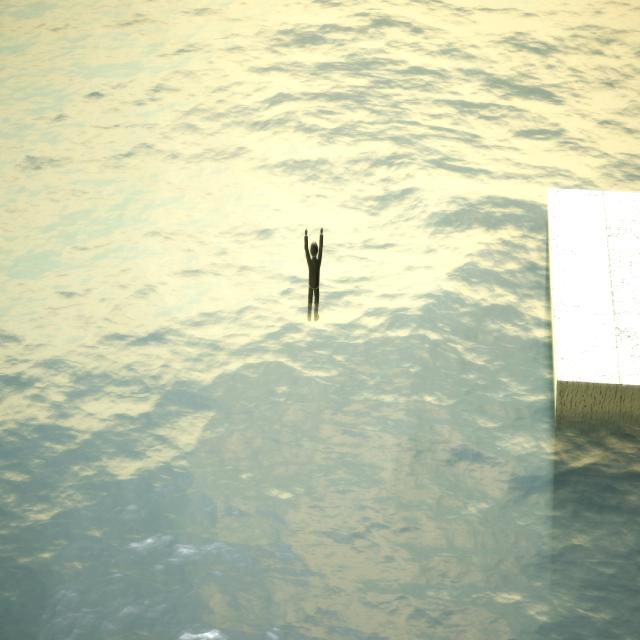Human: (304, 226, 326, 328)
